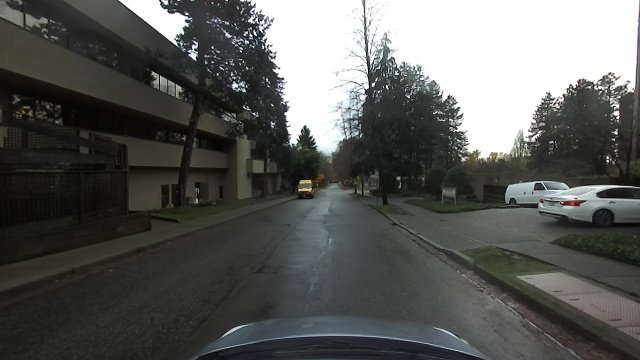car: (538, 181, 640, 231), (501, 177, 570, 208), (293, 178, 317, 200)
